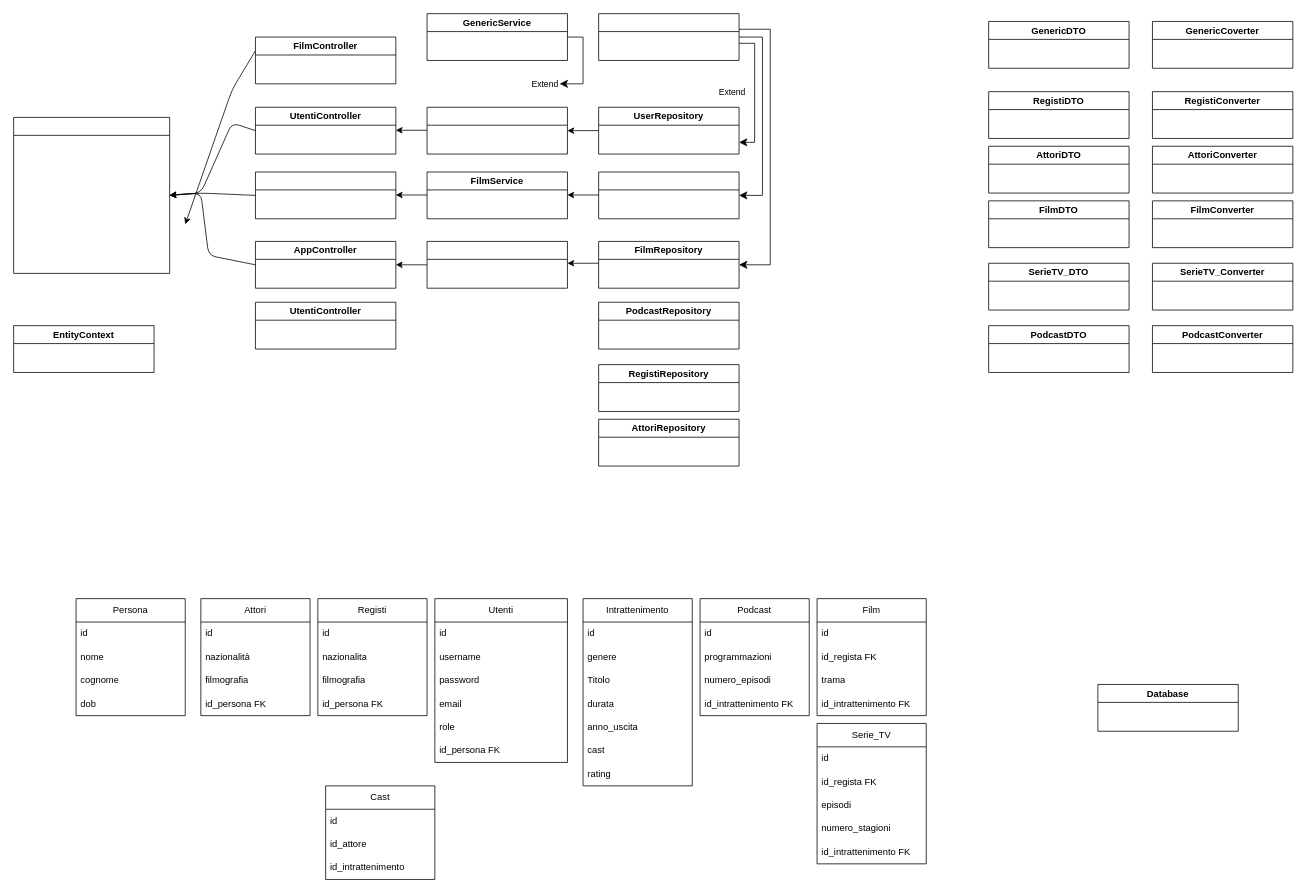
Some shapes in this 1307 by 893 pixel diagram are drawn without their labels. The centre of each missing label's shape, as x and y in pixels:
"AdminController" belongs at (x=325, y=195).
"App" belongs at (x=91, y=195).
"JpaRepository" belongs at (x=668, y=36).
"SerieTV_Repository" belongs at (x=668, y=195).
"SerieTV_Service" belongs at (x=496, y=264).
"UserService" belongs at (x=496, y=130).
